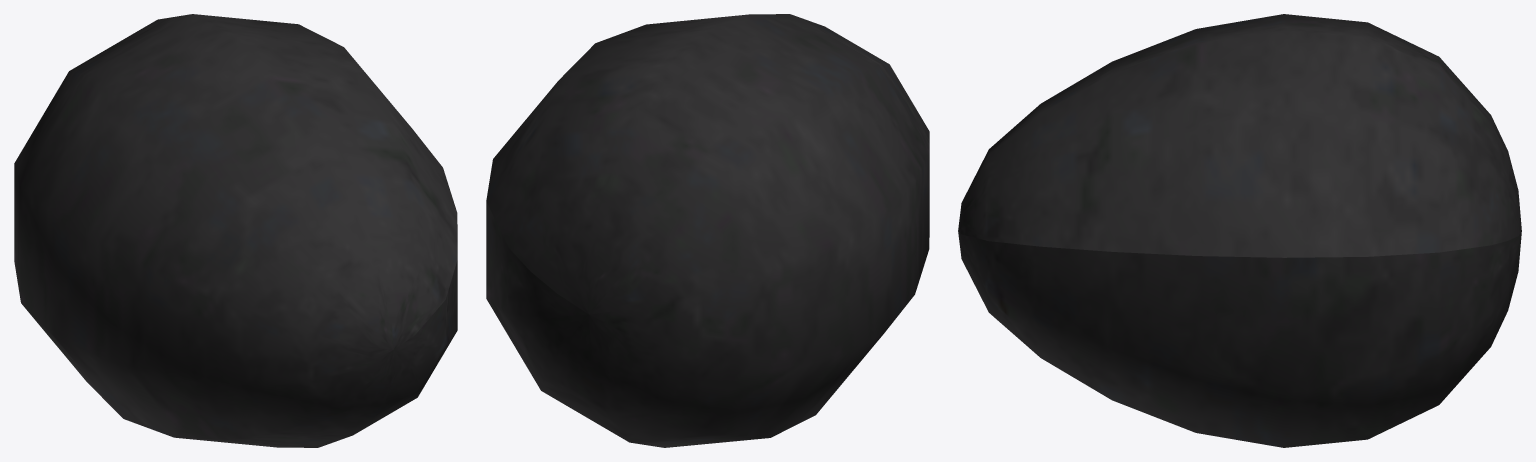
The model's file is huevo_4.fbx.
3 views of the same model, side by side, from view 1: azimuth 30°, elevation 25°; view 2: azimuth 150°, elevation 25°; view 3: azimuth 270°, elevation 25° (orthographic).
Parts seen in each view (by area): view 1: s4studio_mesh_0; view 2: s4studio_mesh_0; view 3: s4studio_mesh_0.
Boxes of the visible parts, bbox=[...] form: s4studio_mesh_0: bbox=[14, 14, 457, 447]; s4studio_mesh_0: bbox=[486, 14, 929, 447]; s4studio_mesh_0: bbox=[958, 14, 1521, 447].
Size of the model in its own units: 5.59 by 5.88 by 7.5.
1 material, 1 textured.
